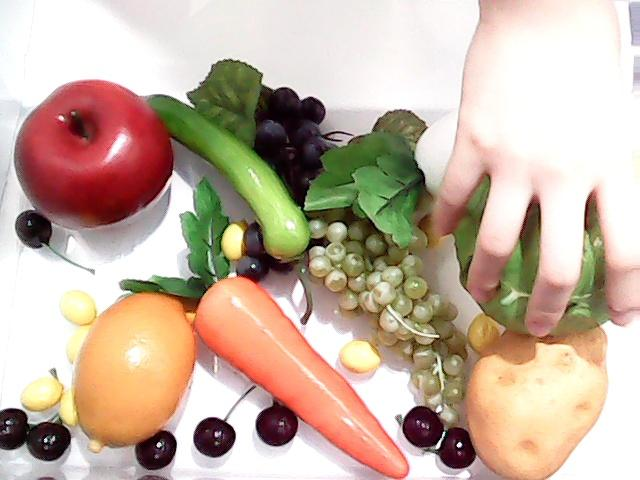apple: (10, 69, 178, 228)
cabbage: (453, 168, 614, 342)
carrot: (118, 175, 409, 480)
grape: (302, 216, 466, 433), (228, 83, 324, 285)
lemon: (70, 290, 198, 454)
pepper: (116, 79, 316, 253)
potato: (468, 324, 608, 480)
radish: (303, 100, 461, 248)
